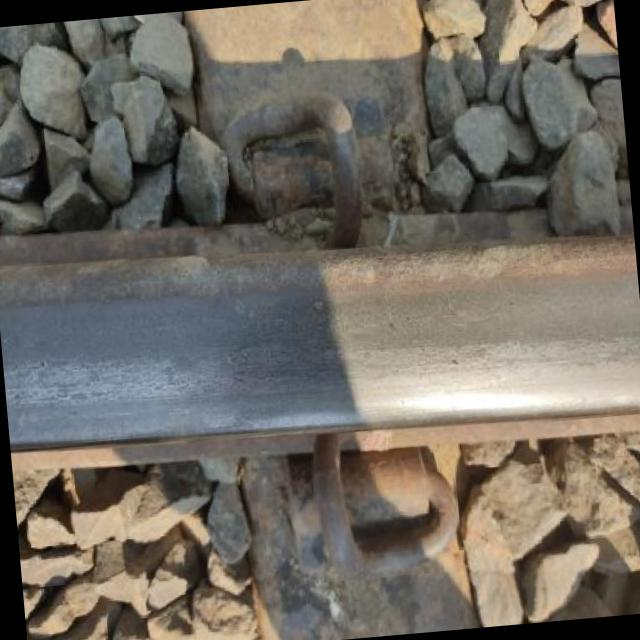defective: (0, 157, 640, 532)
